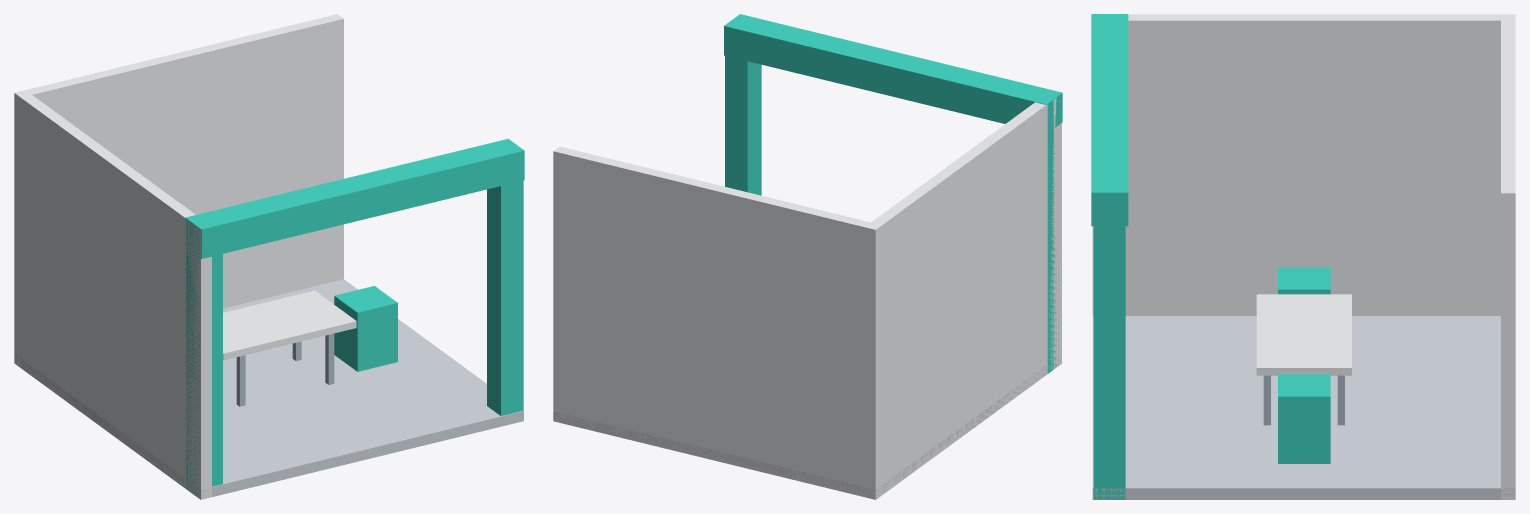
The picture shows the model from 3 angles, left to right: view 1: azimuth 30°, elevation 25°; view 2: azimuth 150°, elevation 25°; view 3: azimuth 270°, elevation 25°; orthographic projection. The views are drawn at different scales.
Parts seen in each view (by area): view 1: Exhibition Booth Concept; view 2: Exhibition Booth Concept; view 3: Exhibition Booth Concept.
Part boxes in pixels (x1,y1,x2,y2): Exhibition Booth Concept: (14,14,524,499); Exhibition Booth Concept: (553,14,1062,499); Exhibition Booth Concept: (1091,14,1515,499).
Size of the model in its own units: 4 by 3.2 by 4.02.
